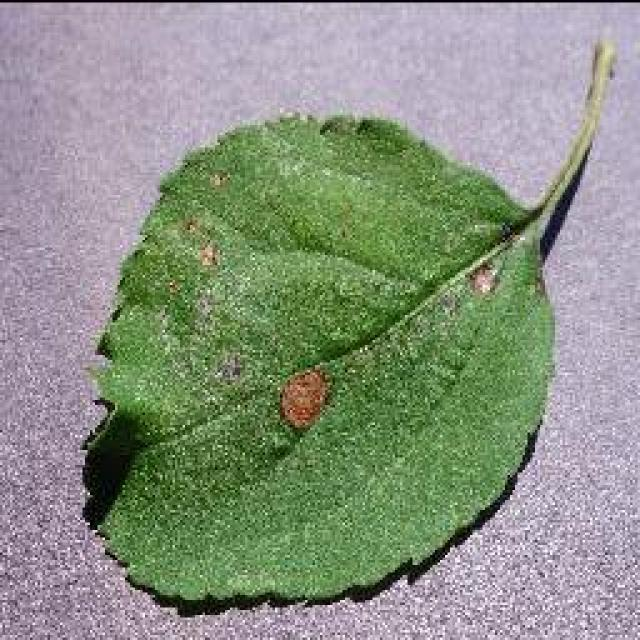apple black rot: (75, 35, 617, 615)
